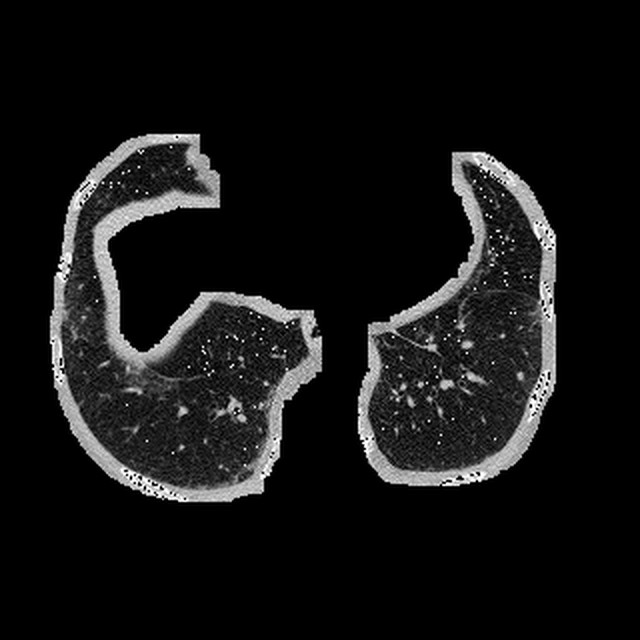PN: (516, 372, 524, 380)
